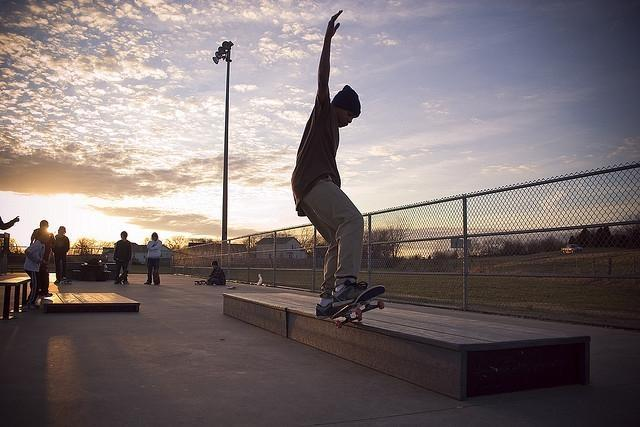car: (561, 244, 582, 254)
